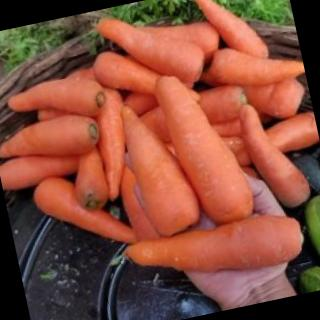Wortel: (150, 61, 261, 233), (125, 205, 310, 296)
